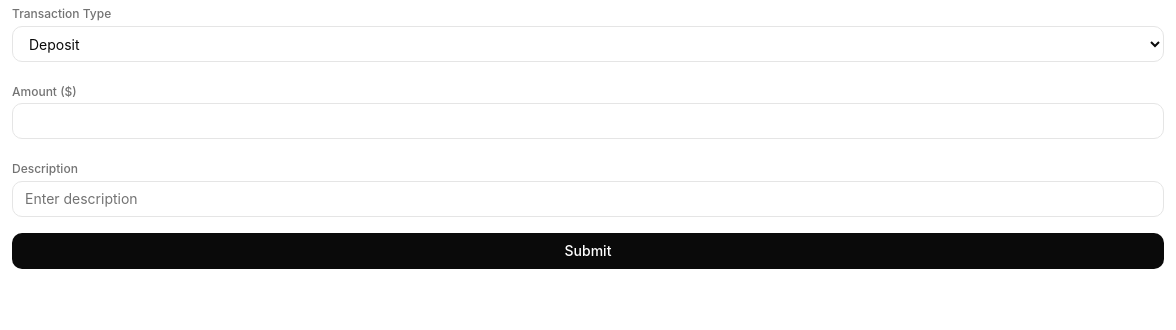
Test: TransactionForm › validates amount is positive
Step 1. Type "-100" into the number field labelled "Amount ($)" → (588, 121), box top-left (12, 103), bottom-right (1164, 139)
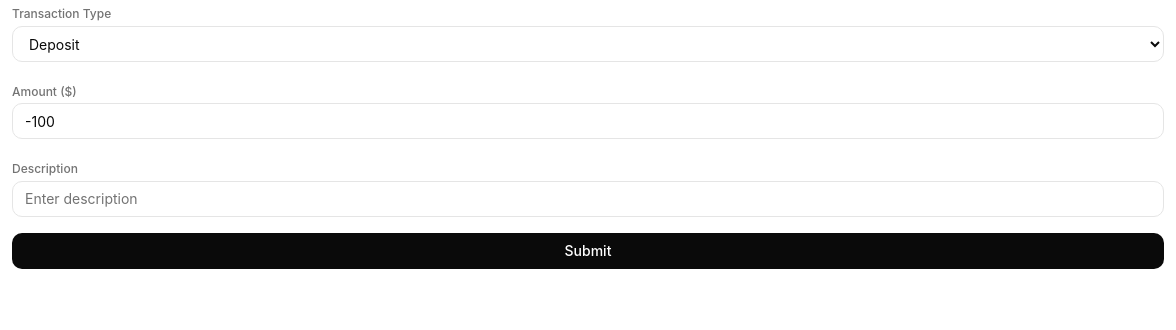
Step 2. Submit the form "Transaction Type Amount ($) Description Submit"
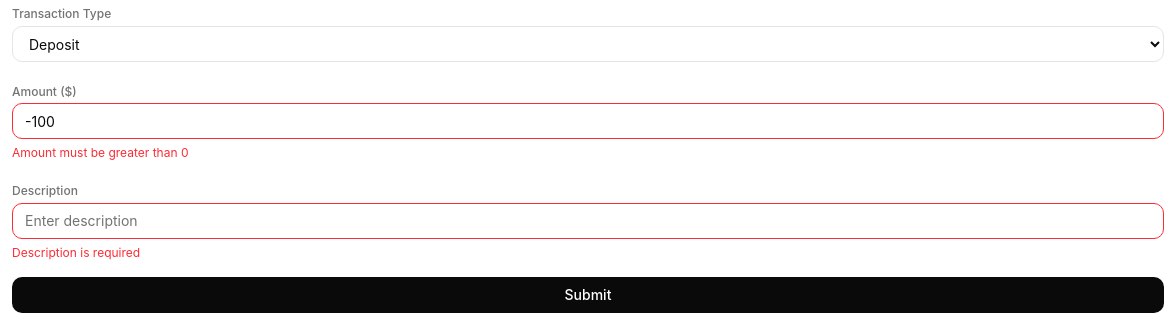
Check: the text "Amount must be greater than 0" is shown, box top-left (12, 145), bottom-right (188, 160)
